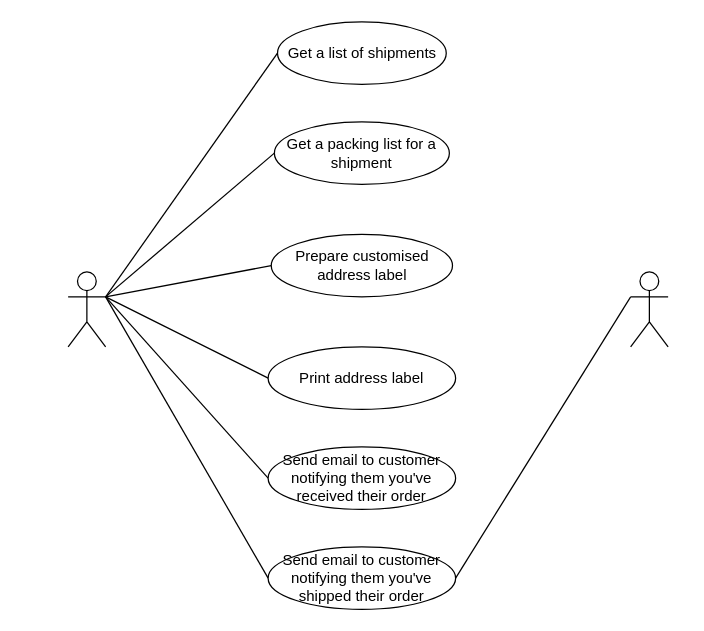
Image size: 704x631. Some labels were removed from this diagram. Each missing label, with the centre of its shape:
"Customer" belongs at (648,309).
"Online Store Owner" belongs at (86,309).
